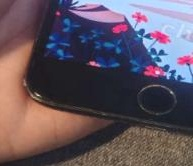scratch: (69, 95, 193, 154), (125, 72, 186, 121), (17, 75, 52, 106)
